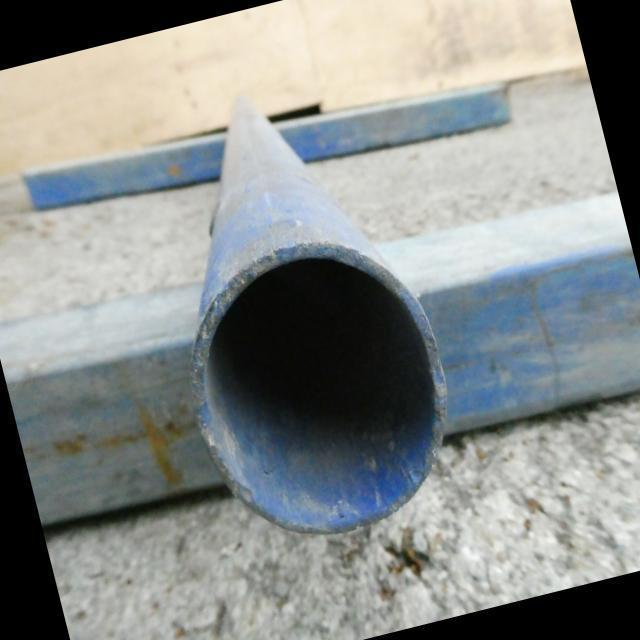pipe: (195, 245, 447, 537)
